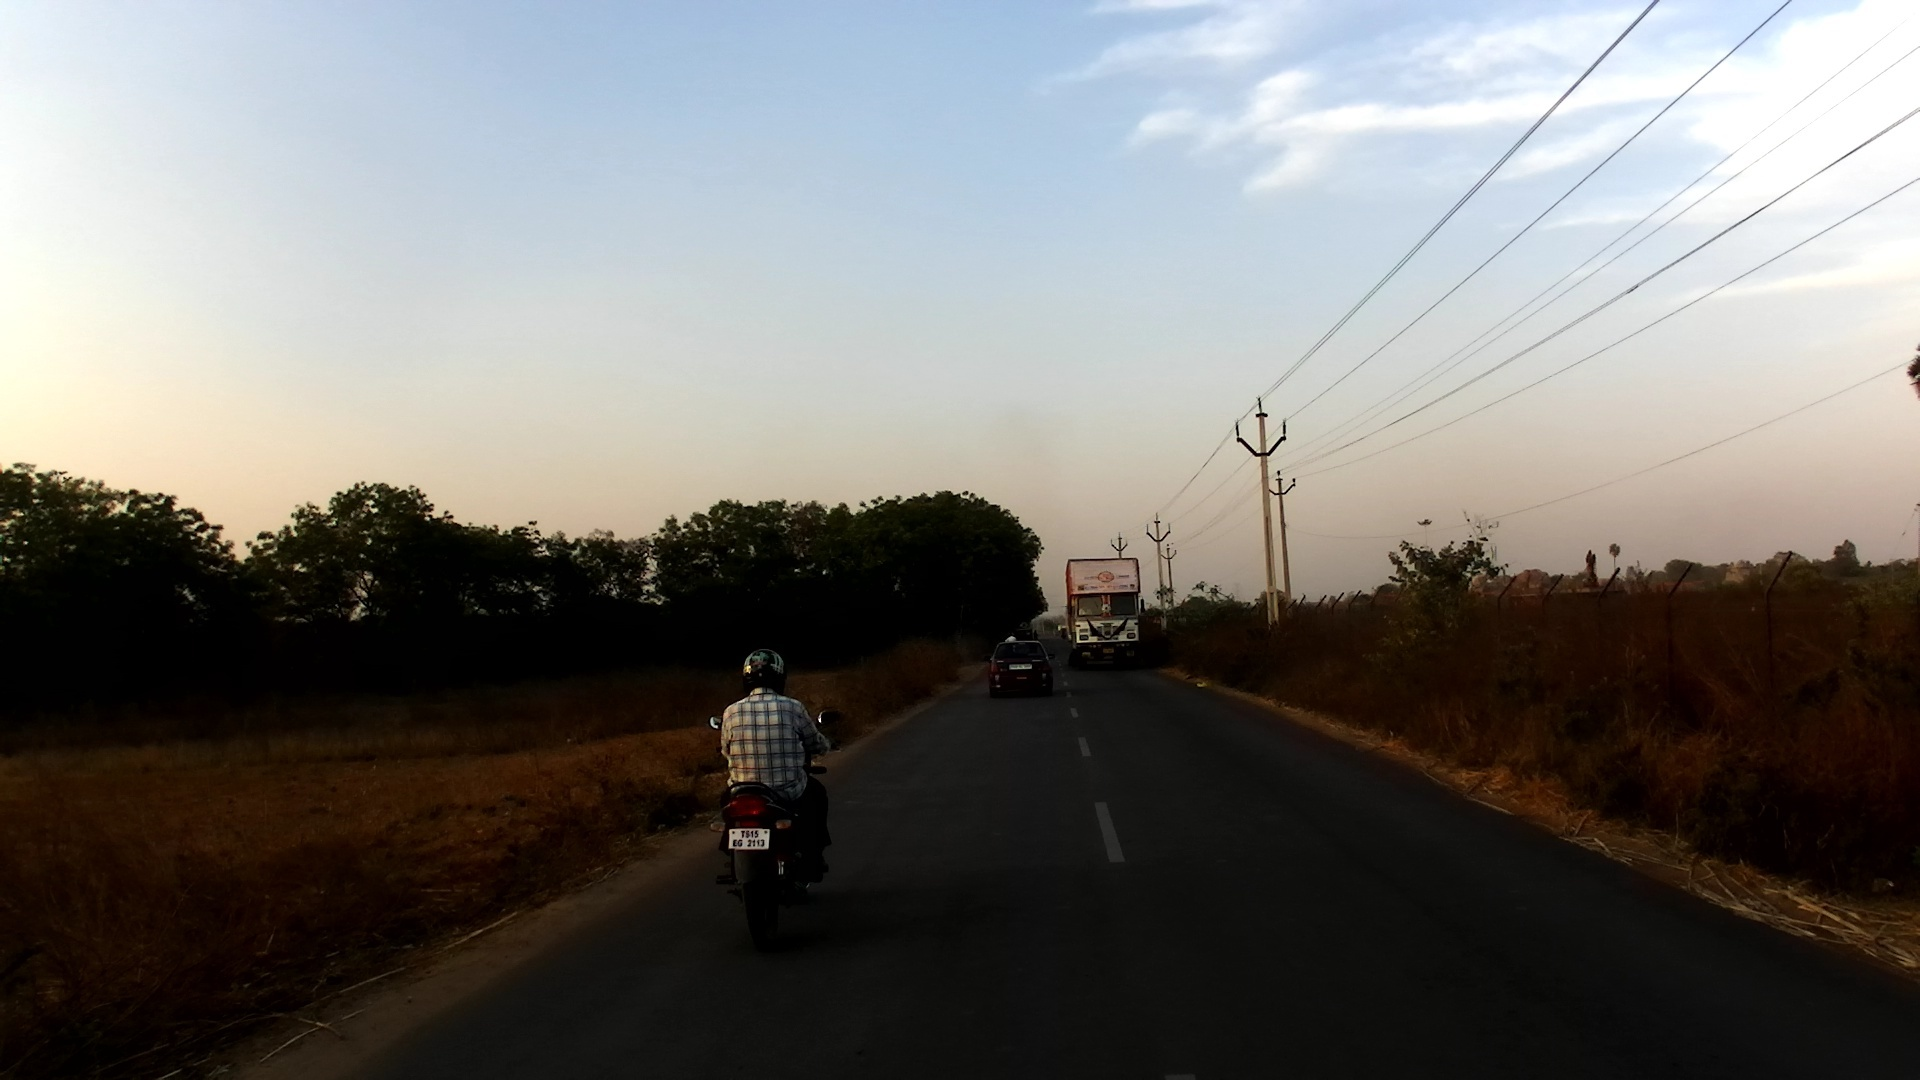car: (987, 639, 1055, 705), (1014, 623, 1033, 644)
motorcycle: (705, 704, 843, 954)
person: (1031, 627, 1040, 642)
rider: (712, 645, 837, 901), (1004, 633, 1015, 642)
truck: (1060, 559, 1147, 673)
